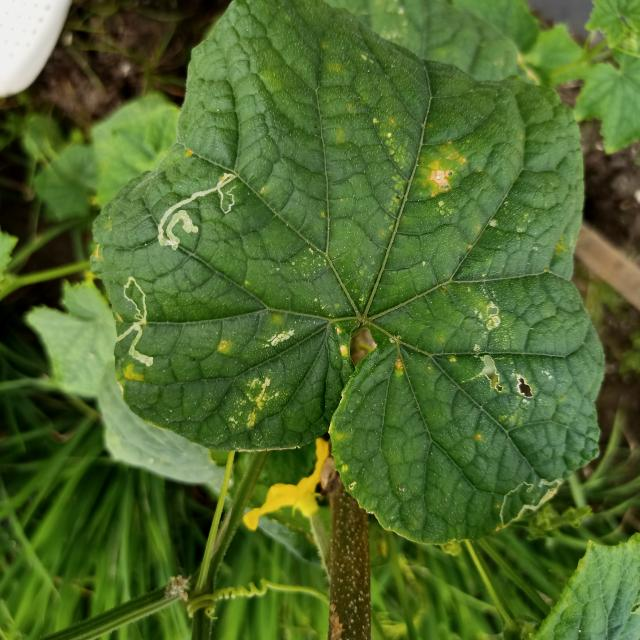disease_cucumber: (463, 292, 532, 402), (231, 374, 288, 428), (418, 143, 466, 202), (259, 321, 302, 352), (112, 358, 145, 386), (330, 322, 352, 359), (90, 239, 108, 265), (392, 354, 409, 377), (215, 336, 232, 354)
